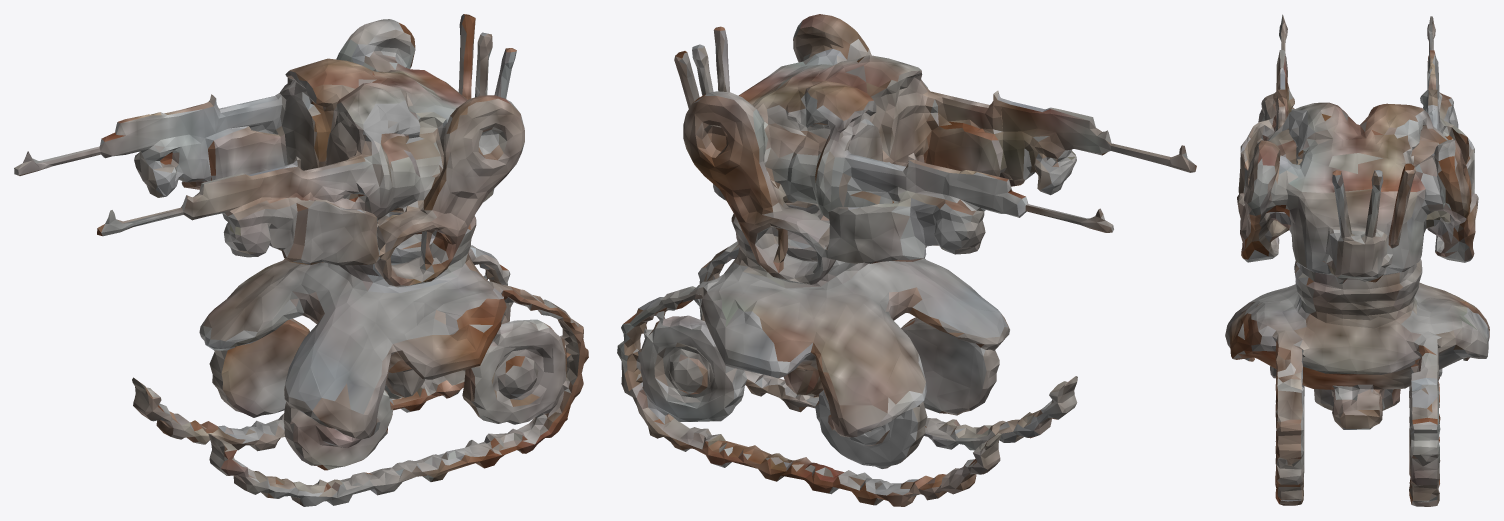
File: debris_tracked_v2.glb
3 views of the same model, side by side, from view 1: azimuth 30°, elevation 25°; view 2: azimuth 150°, elevation 25°; view 3: azimuth 270°, elevation 25° (orthographic). The views are drawn at different scales.
Visible parts, largest first — view 1: Mesh_0; view 2: Mesh_0; view 3: Mesh_0.
Boxes of the visible parts, box(x1,y1,x2,y2) form: Mesh_0: box(14, 14, 588, 506); Mesh_0: box(617, 14, 1196, 506); Mesh_0: box(1225, 14, 1489, 506).
Bounding box in the file's own units: 1.95 × 1.49 × 1.02.
Materials: 1 (1 with a texture image).
